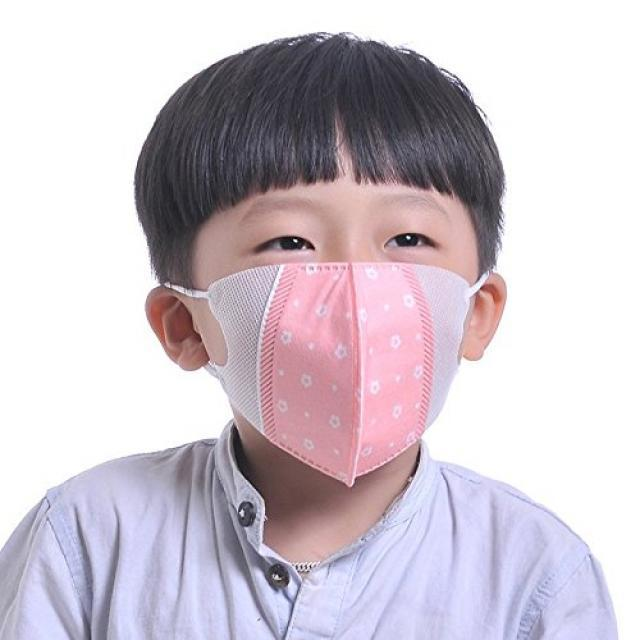1_mascarilla: (184, 263, 476, 487)
